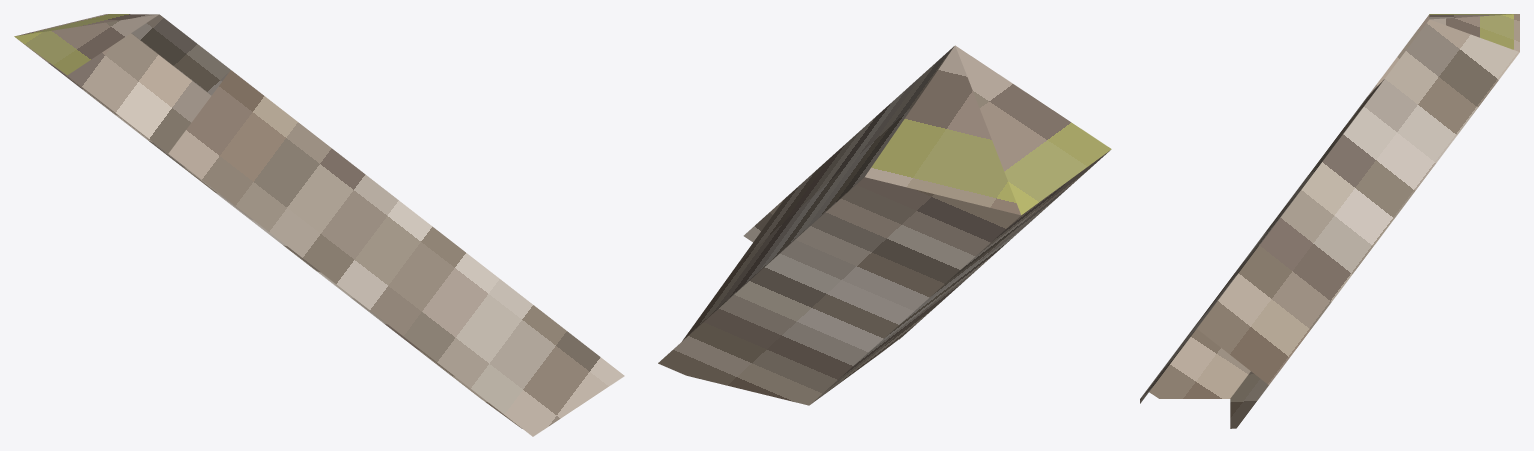
The model's file is ash_thin_branch_45_diagonal.obj.
3 views of the same model, side by side, from view 1: azimuth 30°, elevation 25°; view 2: azimuth 150°, elevation 25°; view 3: azimuth 270°, elevation 25° (orthographic). The views are drawn at different scales.
Parts seen in each view (by area): view 1: cube_selection; view 2: cube_selection; view 3: cube_selection.
Part boxes in pixels (box(x1,y1,x2,y2)): cube_selection: box(14, 14, 624, 436); cube_selection: box(658, 45, 1111, 405); cube_selection: box(1140, 14, 1519, 428).
Bounding box in the file's own units: 1.31 × 1.12 × 1.31.
